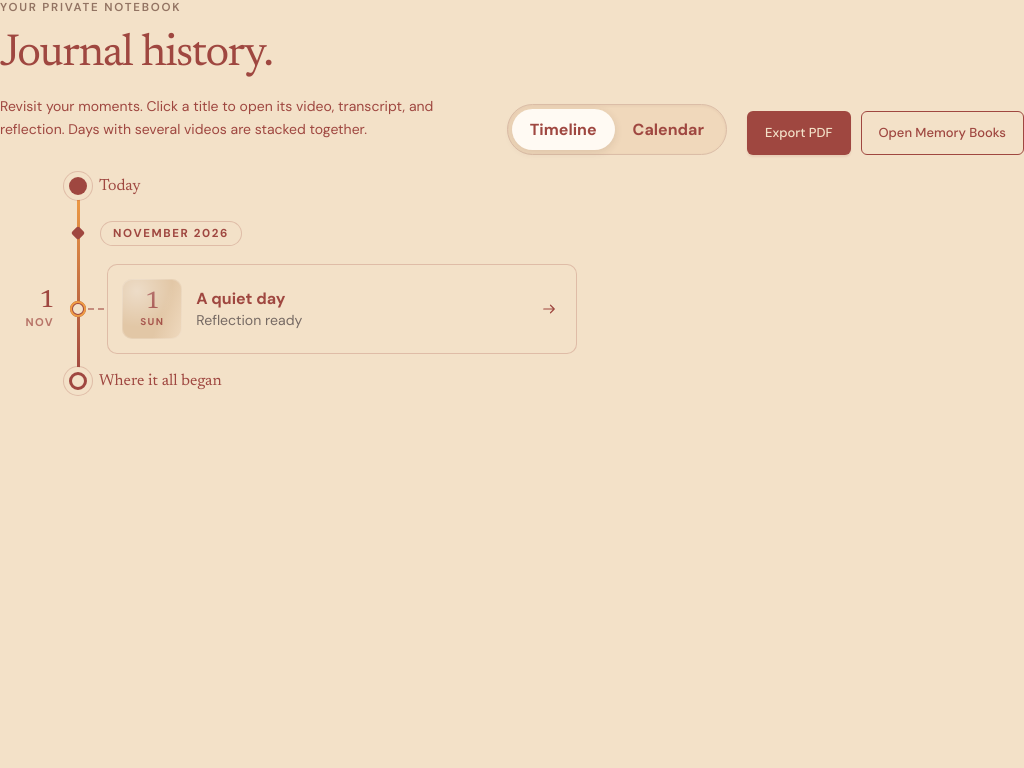
Scenario: cloud transcript integration › opens the saved transcript even when video loading fails and closes on tab navigation
Click the button "1 Sun A quiet day Reflection ready": (152, 309) [108,265,576,353]
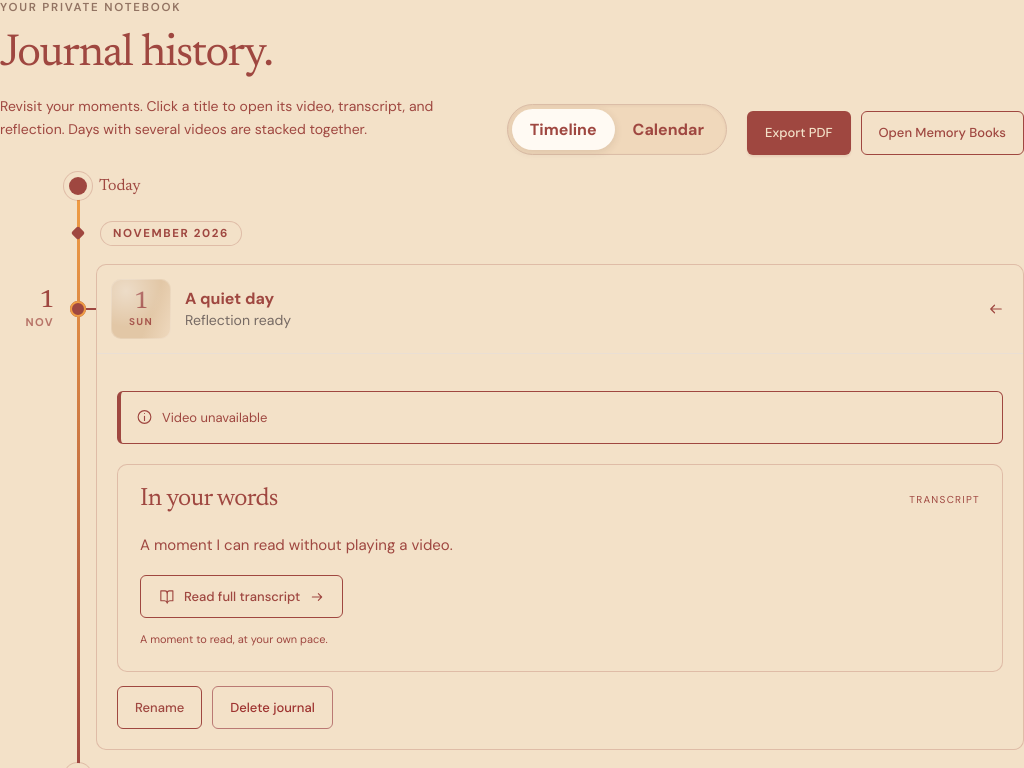
Check: the message reads "Video unavailable", box [162,409,267,426]
Click the button "Read full transcript": (242, 597) [140,575,343,618]
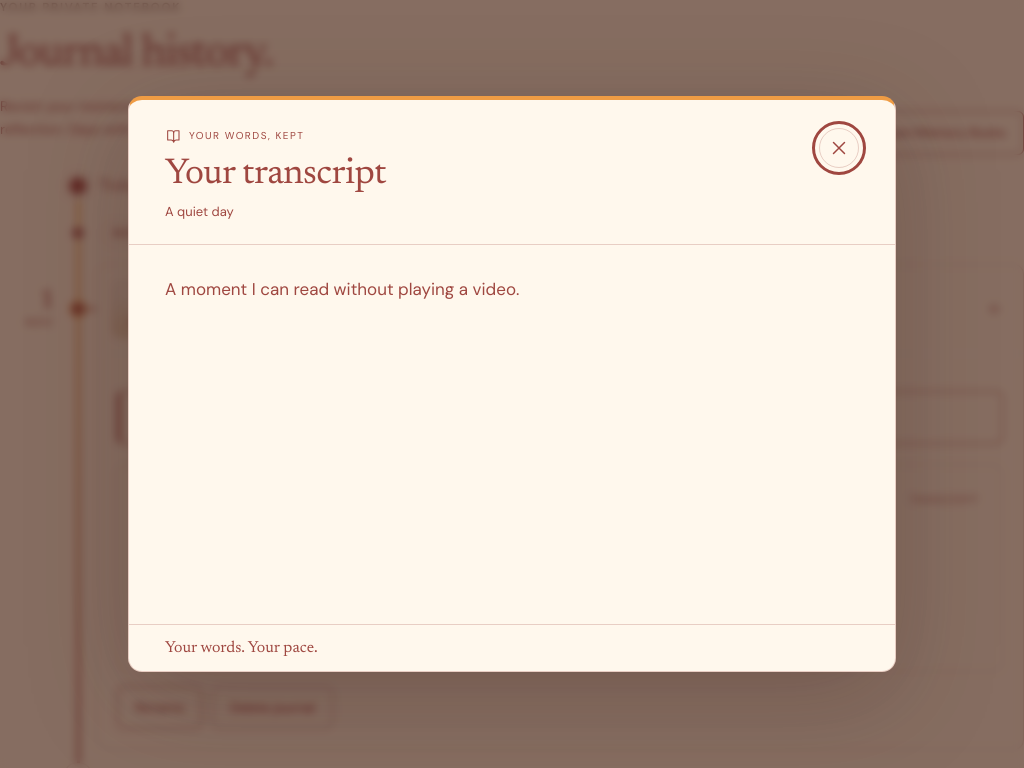
Check: the element named "Full transcript" reads "A moment I can read without playing a video.", box [165,278,519,300]
